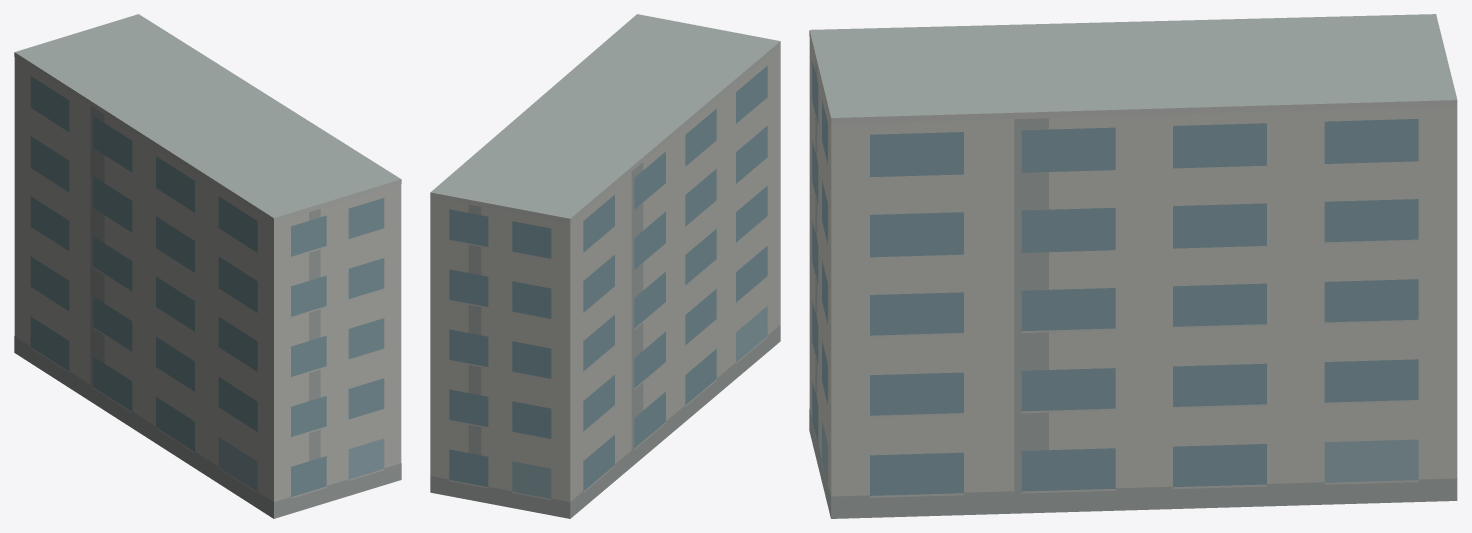
The model's file is residential-99daae3f-451b-414d-9cef-c1d0fc5d2f83.glb.
The picture shows the model from 3 angles, left to right: view 1: azimuth 30°, elevation 25°; view 2: azimuth 150°, elevation 25°; view 3: azimuth 270°, elevation 25°; orthographic projection. The views are drawn at different scales.
Visible parts, largest first — view 1: residential-99daae3f-451b-414d-9cef-c1d0fc5d2f83.tmp; view 2: residential-99daae3f-451b-414d-9cef-c1d0fc5d2f83.tmp; view 3: residential-99daae3f-451b-414d-9cef-c1d0fc5d2f83.tmp.
Boxes of the visible parts, x1,y1,x2,y2 form: residential-99daae3f-451b-414d-9cef-c1d0fc5d2f83.tmp: (14, 14, 401, 518); residential-99daae3f-451b-414d-9cef-c1d0fc5d2f83.tmp: (430, 14, 780, 518); residential-99daae3f-451b-414d-9cef-c1d0fc5d2f83.tmp: (809, 14, 1457, 518).
Bounding box in the file's own units: 8.5 × 15.25 × 22.35.
